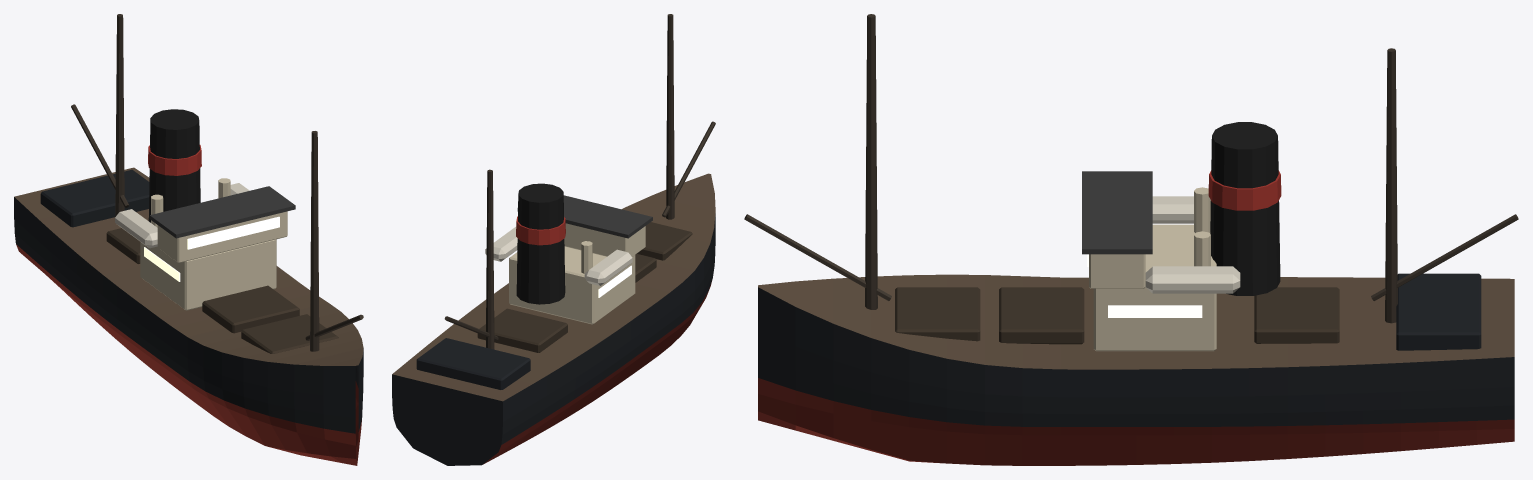
The model's file is steamer.fbx.
3 views of the same model, side by side, from view 1: azimuth 30°, elevation 25°; view 2: azimuth 150°, elevation 25°; view 3: azimuth 270°, elevation 25° (orthographic). The views are drawn at different scales.
Parts seen in each view (by area): view 1: Hull, Body, BridgeHouse, Funnel, Bridge, BridgeWindows, FunnelBand, Lifeboat, HouseWindowsS; view 2: Hull, Body, Funnel, BridgeHouse, Bridge, Lifeboat, FunnelBand, Lifeboat2, Vent1; view 3: Hull, Body, Funnel, BridgeHouse, Lifeboat2, Bridge, FunnelBand, HouseWindowsP, Lifeboat.
Part boxes in pixels (bbox=[...]): Hull: bbox=[14, 167, 363, 465]; Body: bbox=[40, 14, 363, 353]; BridgeHouse: bbox=[140, 239, 276, 310]; Funnel: bbox=[148, 109, 200, 222]; Bridge: bbox=[157, 211, 287, 262]; BridgeWindows: bbox=[187, 216, 279, 249]; FunnelBand: bbox=[148, 145, 201, 175]; Lifeboat: bbox=[115, 209, 157, 248]; HouseWindowsS: bbox=[144, 247, 180, 281]; Hull: bbox=[392, 173, 715, 465]; Body: bbox=[416, 14, 715, 389]; Funnel: bbox=[516, 183, 565, 304]; BridgeHouse: bbox=[509, 246, 635, 324]; Bridge: bbox=[564, 223, 645, 256]; Lifeboat: bbox=[584, 249, 632, 285]; FunnelBand: bbox=[516, 216, 565, 245]; Lifeboat2: bbox=[485, 226, 517, 261]; Vent1: bbox=[581, 241, 592, 273]; Hull: bbox=[758, 274, 1514, 465]; Body: bbox=[744, 14, 1518, 350]; Funnel: bbox=[1210, 122, 1280, 295]; BridgeHouse: bbox=[1093, 224, 1216, 351]; Lifeboat2: bbox=[1145, 266, 1240, 293]; Bridge: bbox=[1089, 254, 1145, 288]; FunnelBand: bbox=[1208, 170, 1281, 210]; HouseWindowsP: bbox=[1108, 305, 1202, 317]; Lifeboat: bbox=[1152, 196, 1193, 223].
Bounding box in the file's own units: 4.6 × 10.4 × 16.38.
